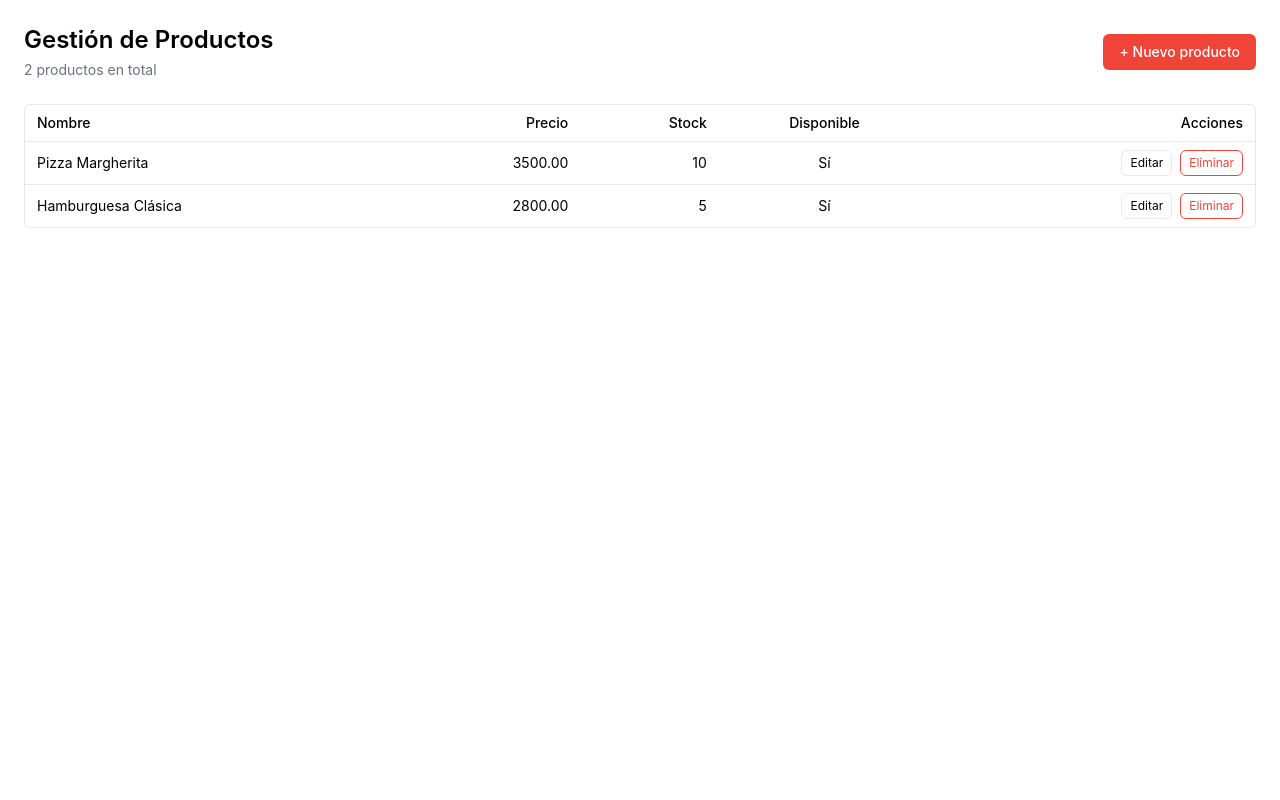
Test: StockProductsPage › opens create modal when "Nuevo producto" is clicked
What coordinates should you click on to do the following:
click the button "+ Nuevo producto"
I would click on:
 (1180, 52)
Its box is [1104,34,1256,70].
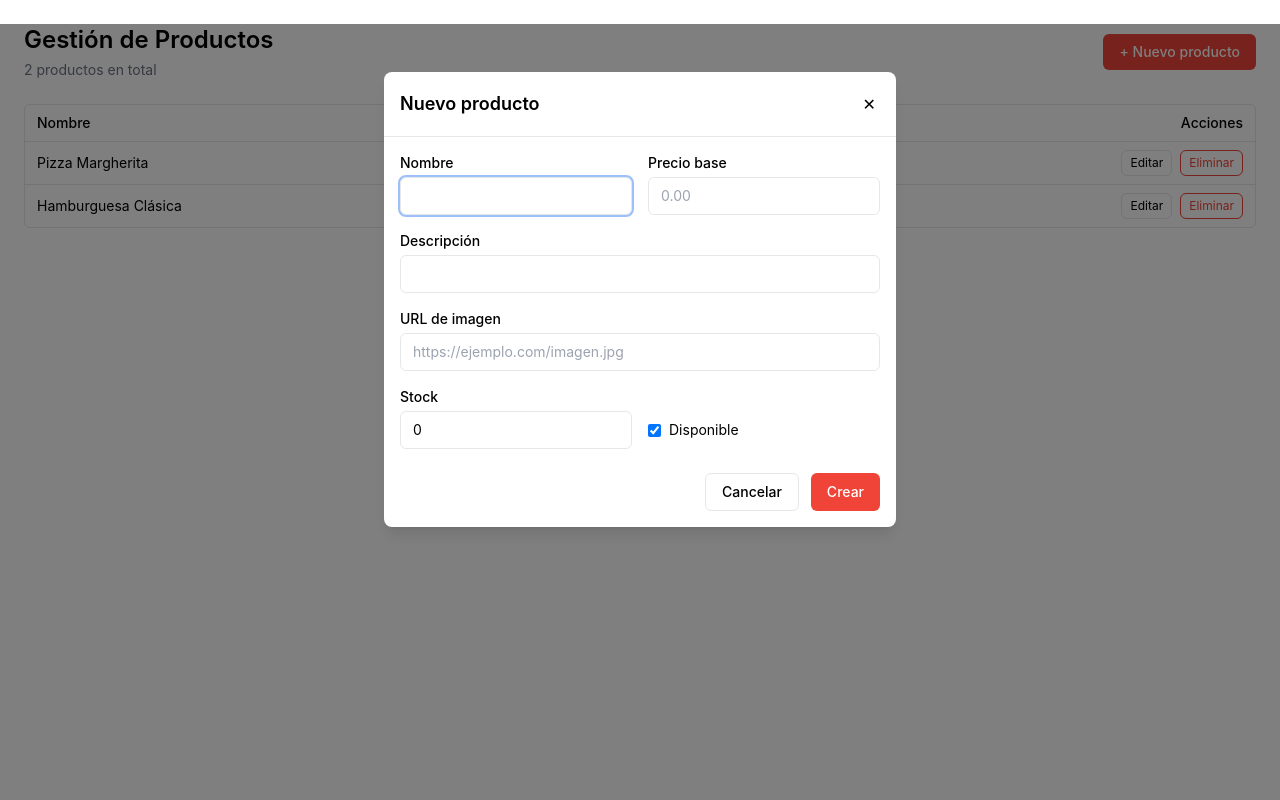
Check: the dialog is shown
Check: the heading "Nuevo producto" is shown, box [400,90,540,118]
